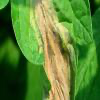Tomato leaf late blight: (10, 1, 97, 99)
